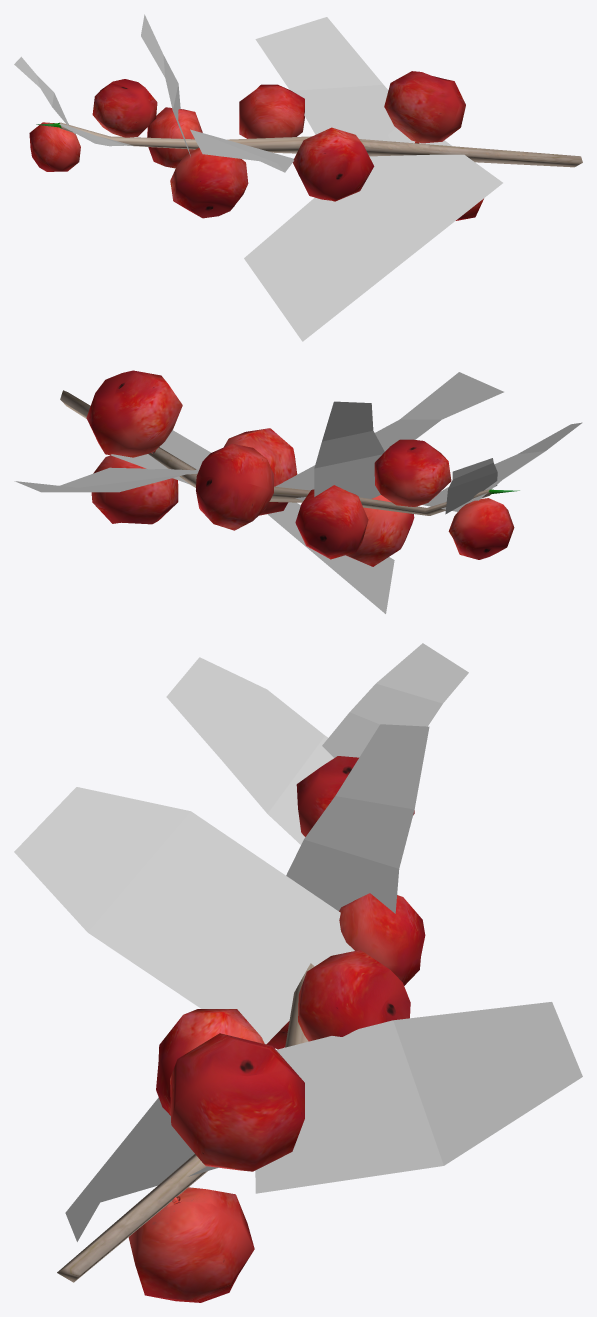
File: ficus_fruit.fbx
3 views of the same model, one above another, from view 1: azimuth 30°, elevation 25°; view 2: azimuth 150°, elevation 25°; view 3: azimuth 270°, elevation 25° (orthographic). The views are drawn at different scales.
Visible parts, largest first — view 1: fruit_LOD0; view 2: fruit_LOD0; view 3: fruit_LOD0.
Boxes of the visible parts, x1,y1,x2,y2 form: fruit_LOD0: [14, 14, 582, 341]; fruit_LOD0: [14, 370, 582, 613]; fruit_LOD0: [14, 643, 582, 1302].
Size of what is drawn, in the model's own units: 17.63 by 9.45 by 10.44.
